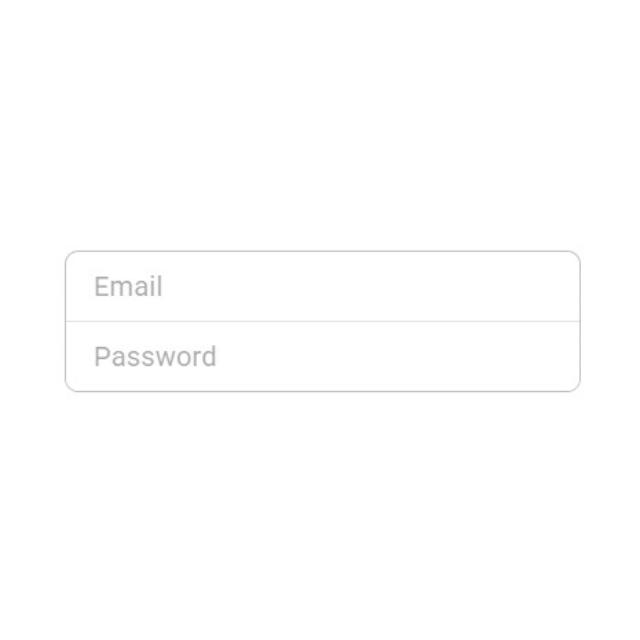VTextField: (65, 250, 581, 320), (65, 322, 580, 392)
